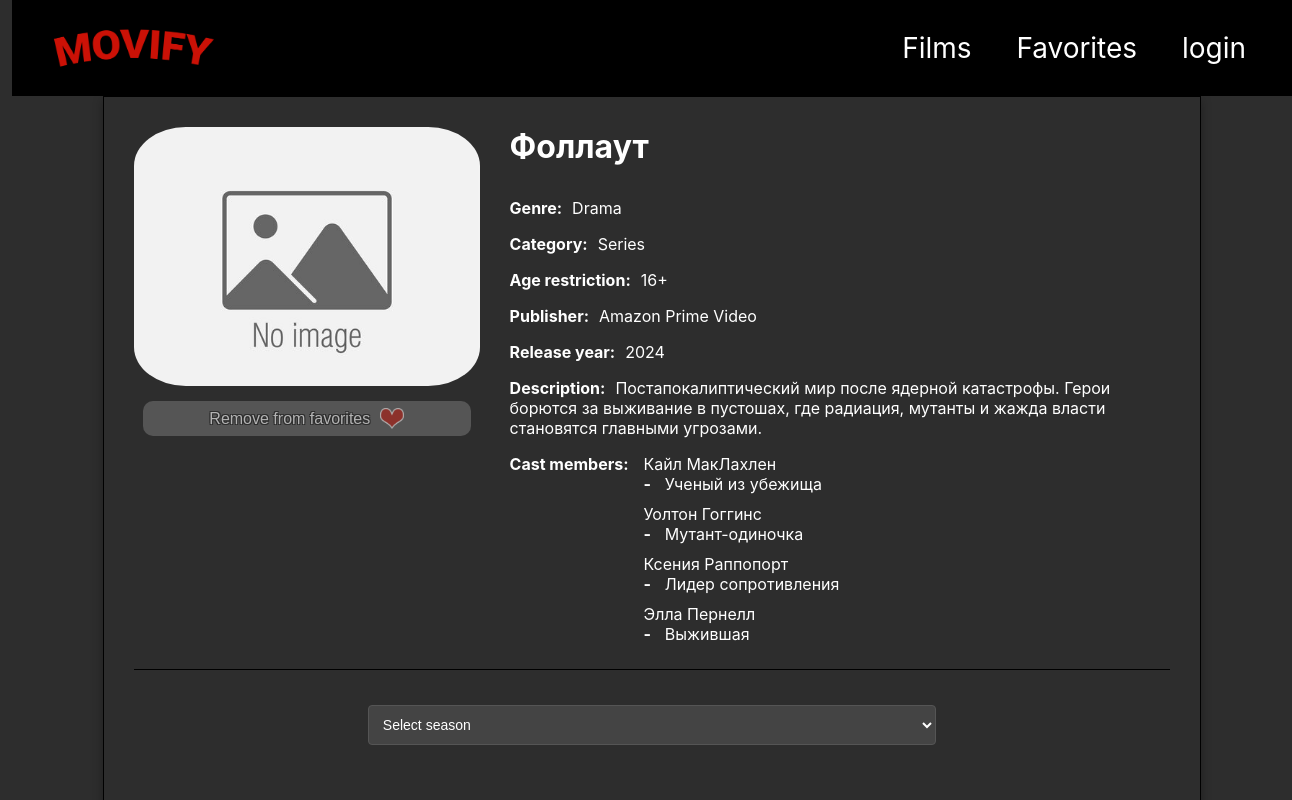
Test: FilmDetail › displays correct message for USER and IN_PROGRESS
This screenshot has width=1292, height=800.
Expected: the text "Фоллаут" is shown, [510,127,649,166]
Select "Season 1" in the dropdown. click: (652, 725)
box: [368,705,936,745]
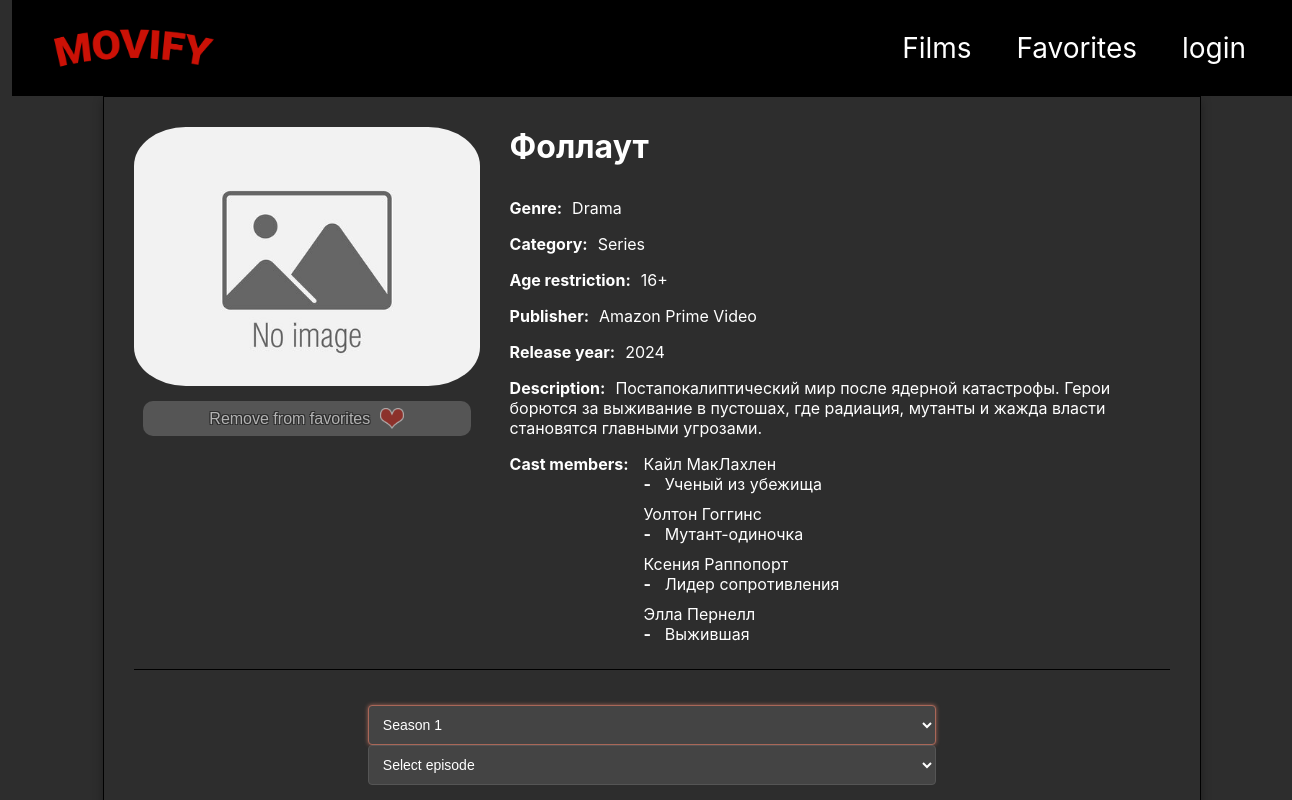
Select "1. Test Episode" in the 2nd dropdown. click: (652, 765)
box: [368,745,936,785]
(page scrolled)
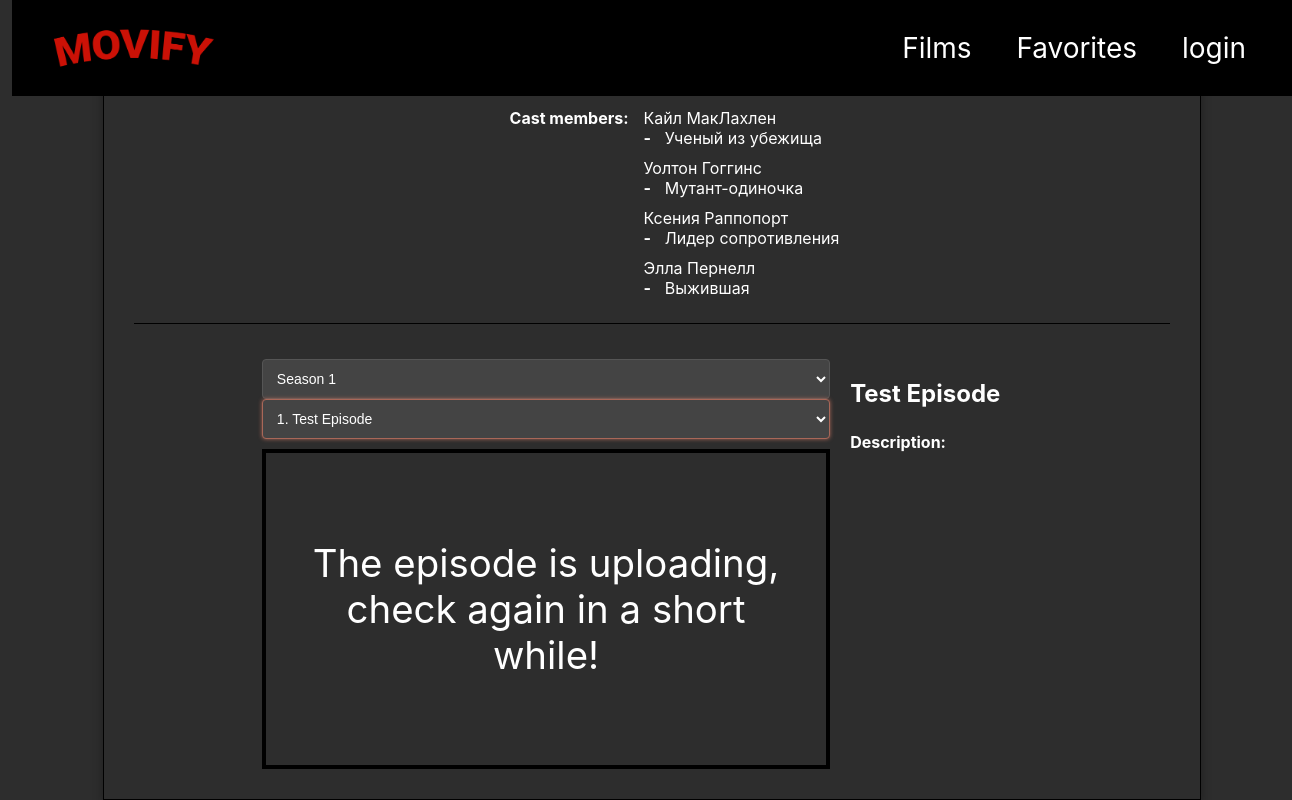
Expected: the text "The episode is uploading, check again in a short while!" is shown, [262,449,830,769]
